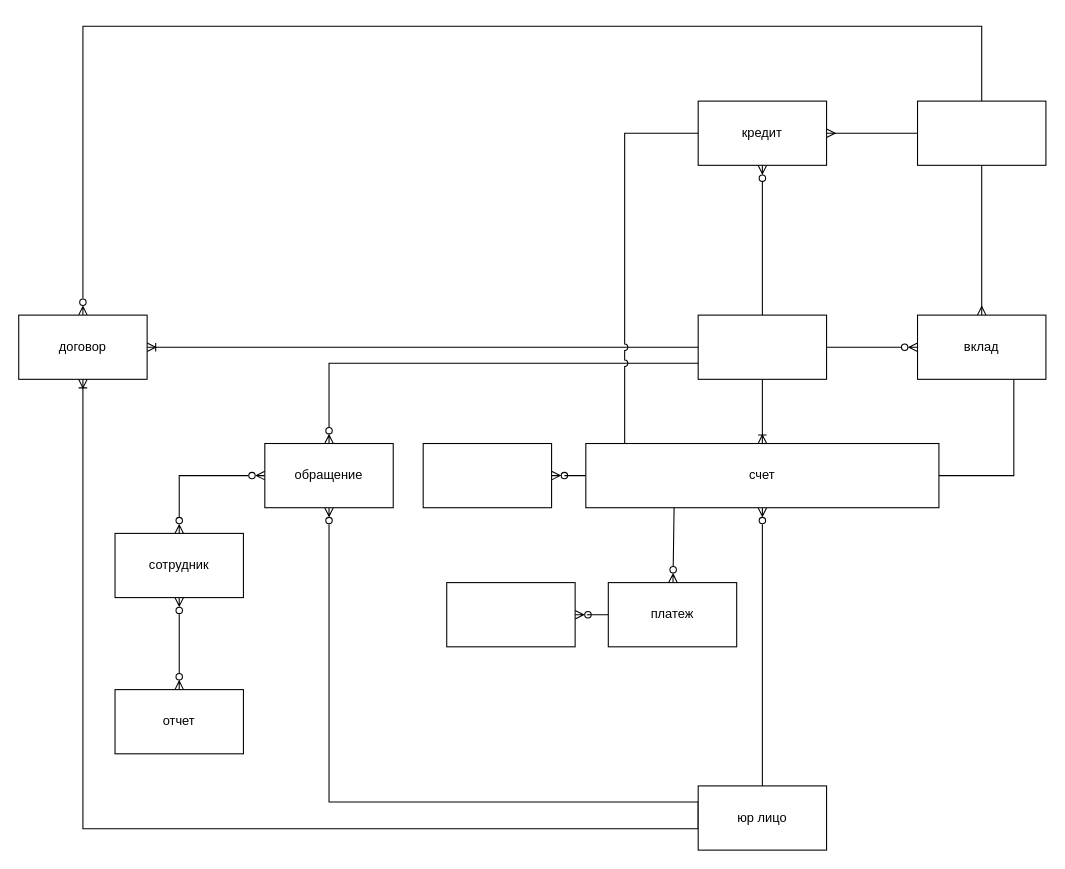
This 1065x869 diagram has some shape labels left out. The shapes that lost their labels are listed below. From the top down, each one's centre as x and y in pixels, then its label:
At point (981, 132): "продукт".
At point (762, 346): "физ лицо".
At point (487, 475): "карта".
At point (510, 614): "транзакция".
